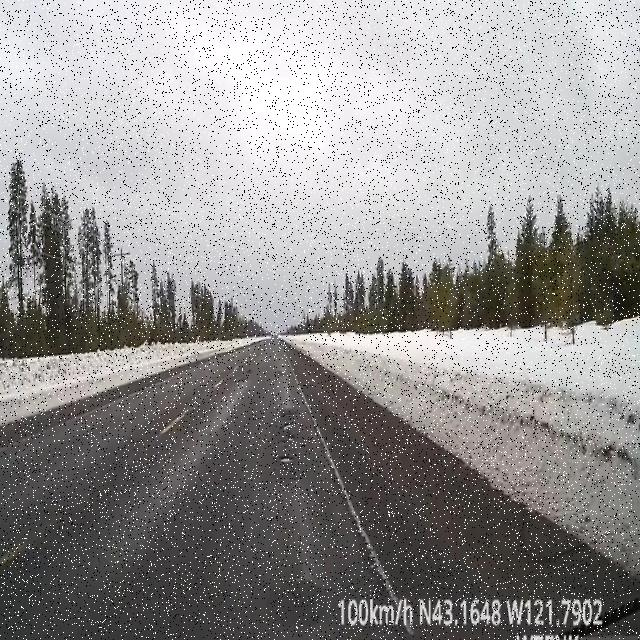pothole: (279, 455, 297, 465), (282, 422, 293, 432), (287, 434, 296, 443)
